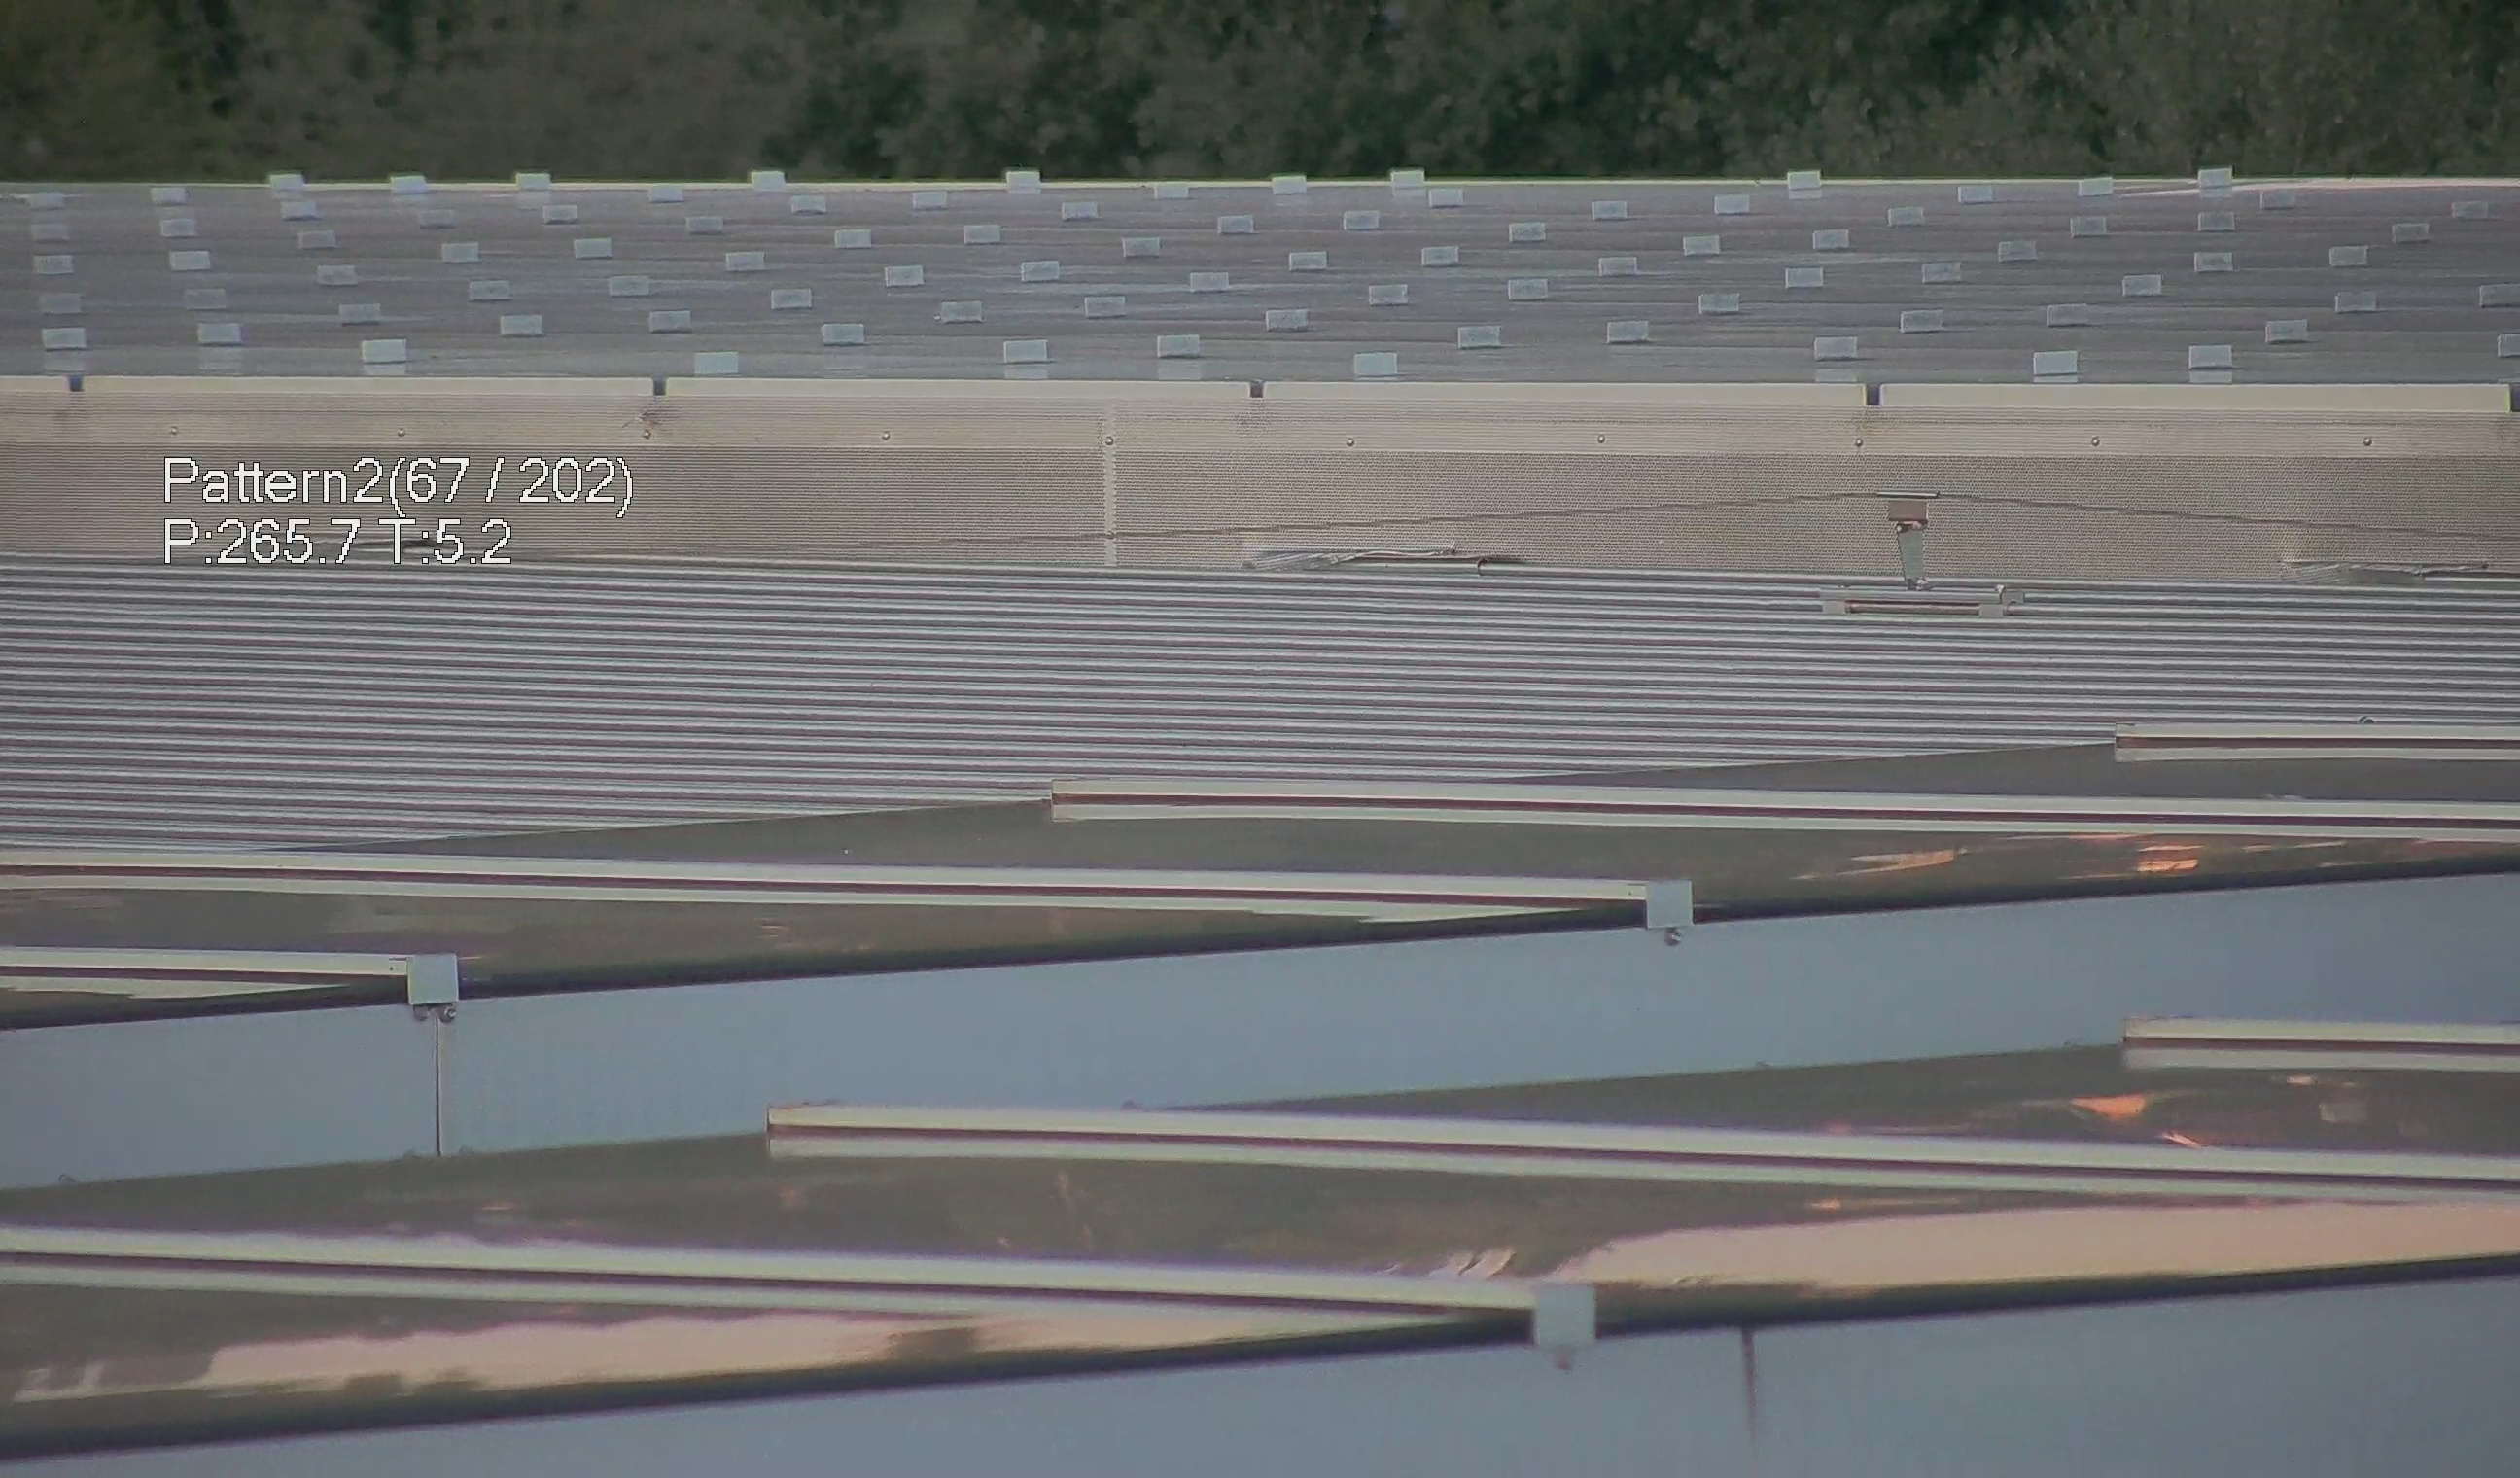Other: (1887, 484, 1954, 577)
